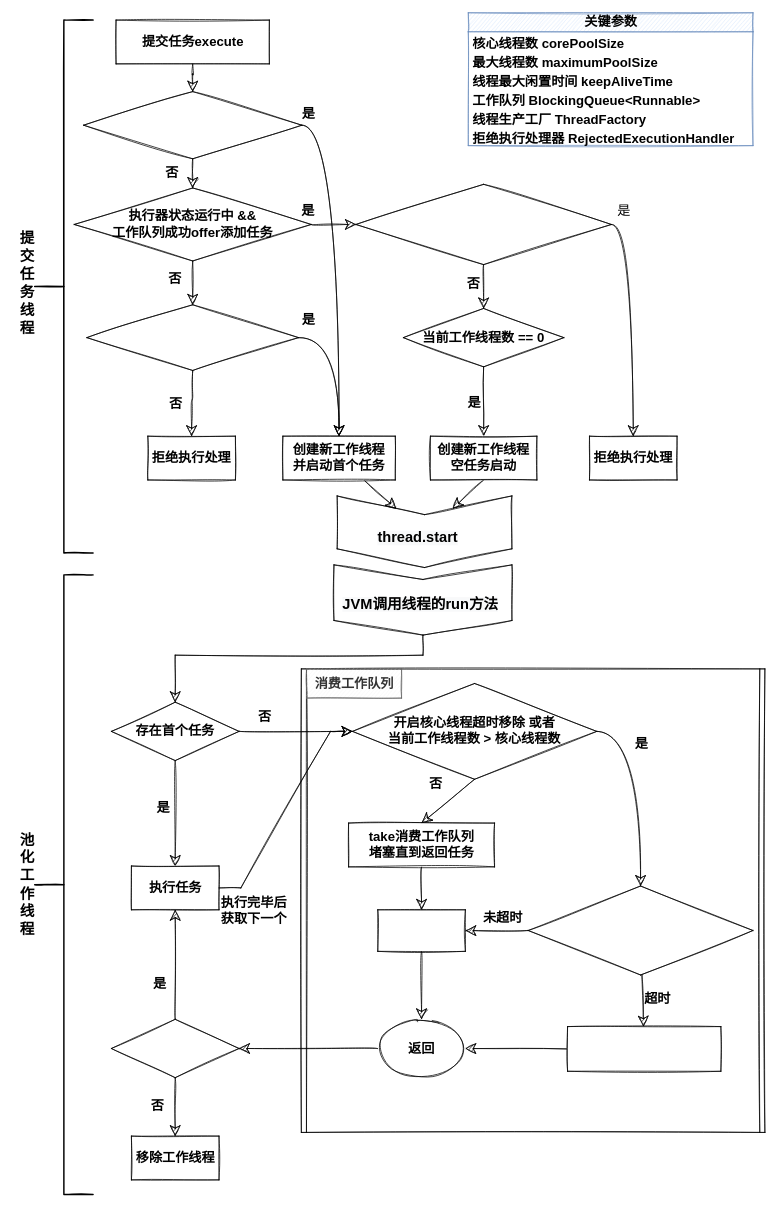
This 777x1208 diagram has some shape labels left out. Each missing label, with the centre of its shape:
"poll超时消费工作队列 keepAlive时间内返回" goes at (640,930).
"存在任务" goes at (175,1048).
"当前工作线程数 < 最大线程数" goes at (192,337).
"当前工作线程数 < 核心线程数" goes at (192,125).
"执行器状态非运行中 && 工作队列成功remove移除任务" goes at (483,224).
"超时无返回 （导致线程被移除）" goes at (644,1048).
"返回任务" goes at (421,930).
